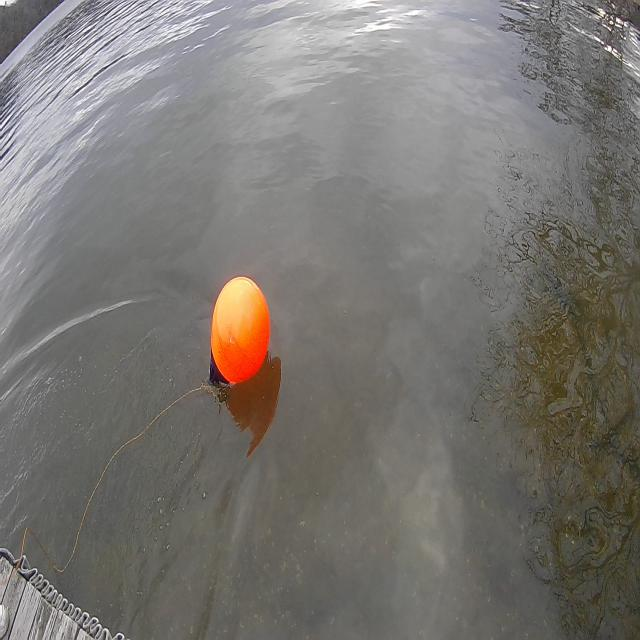Buoy: (206, 271, 274, 400)
